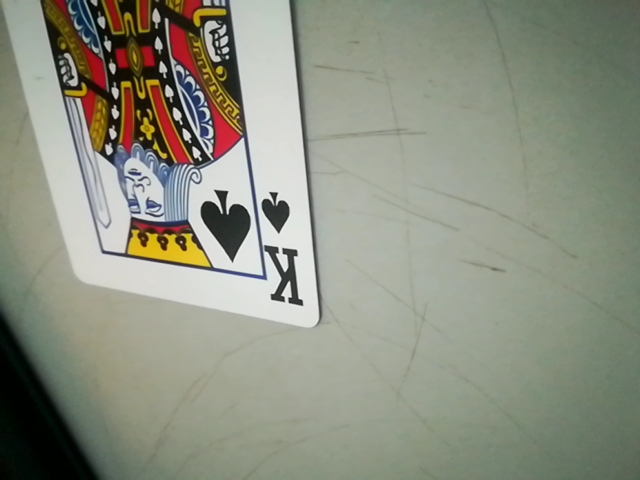ht k: (260, 192, 303, 311)
